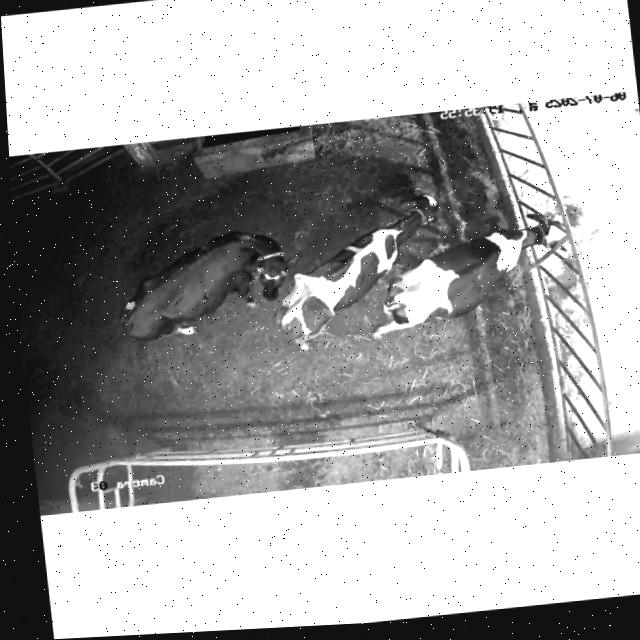stand: (276, 194, 437, 350), (120, 231, 299, 341)
